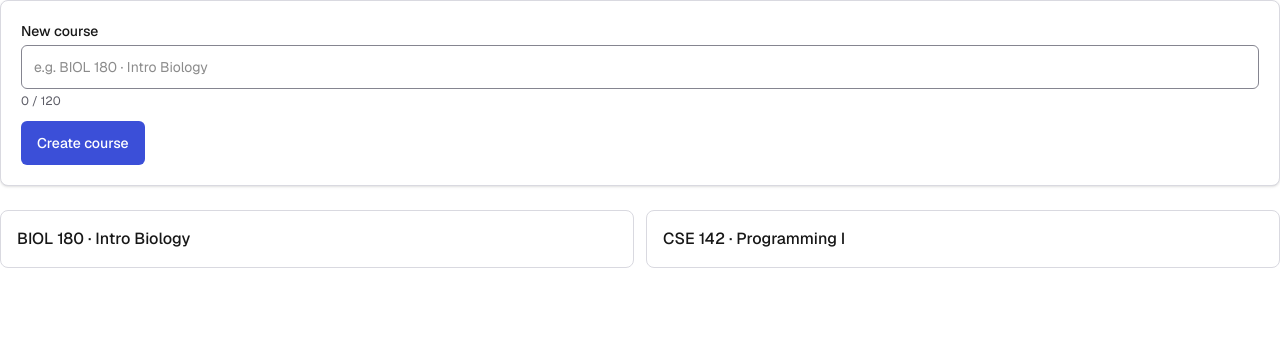
CourseLibrary › creates a course with the trimmed name and adds it to the list
This screenshot has width=1280, height=355.
Expected: the link "BIOL 180 · Intro Biology" is shown, [0,210,634,268]
Type "  CHEM 142  " into the field labelled "New course".
click(640, 67); type("  CHEM 142  ")  # box [21,45,1259,89]
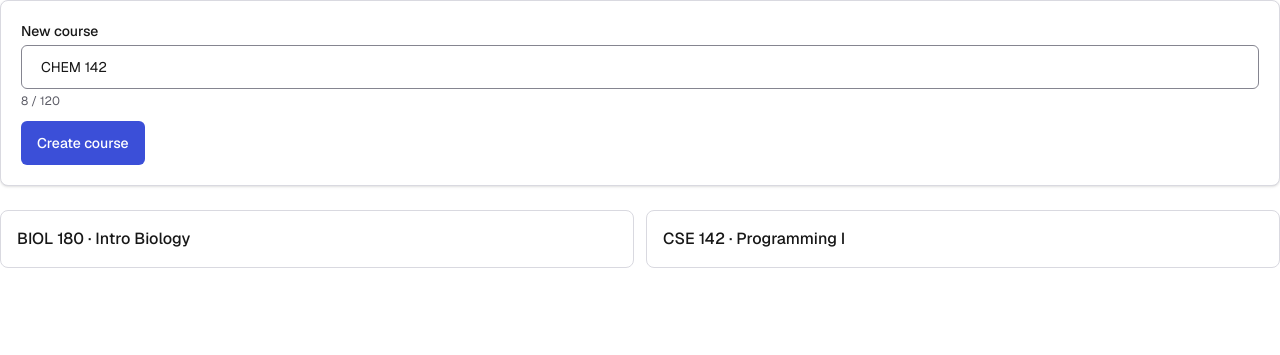
Click the button "Create course".
click(83, 143)  # box [21,121,145,165]
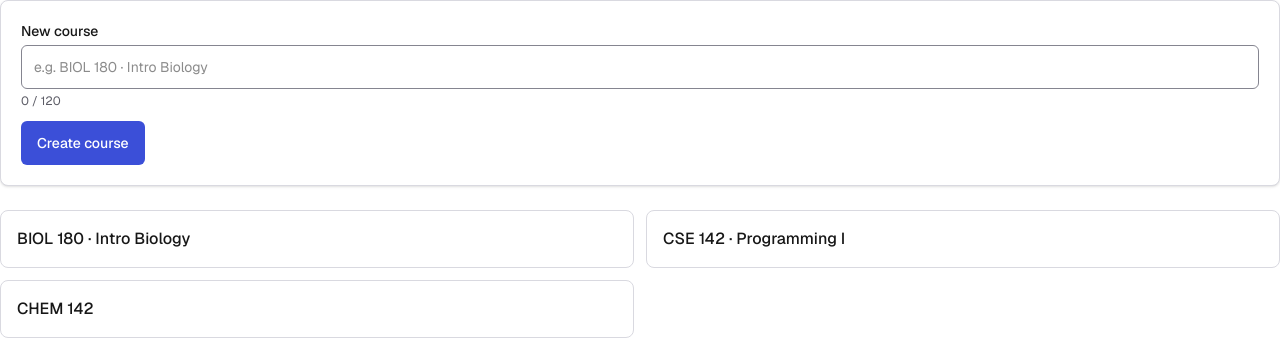
Now the field labelled "New course" is empty, box [21,45,1259,89]
